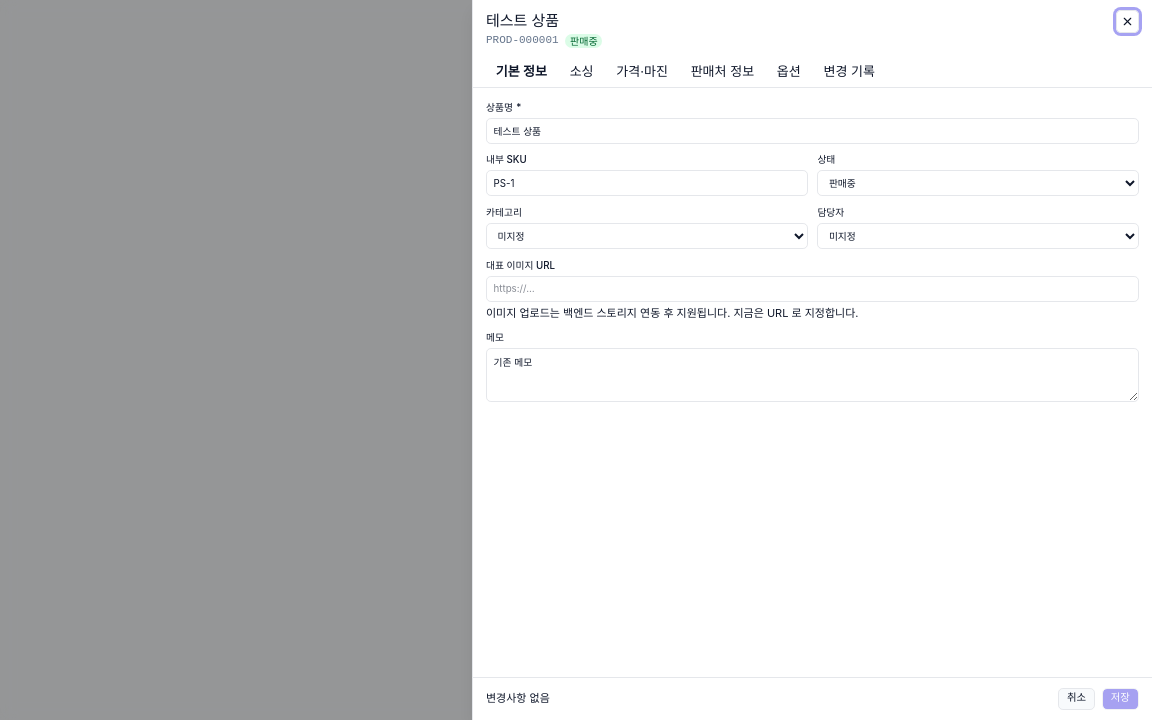
Test: ProductDrawer 저장 경로 › 확인 창이 어떤 항목이 승인으로 가는지 이름으로 보여준다
Clear the field showing "테스트 상품": (812, 131) [486,118,1139,144]
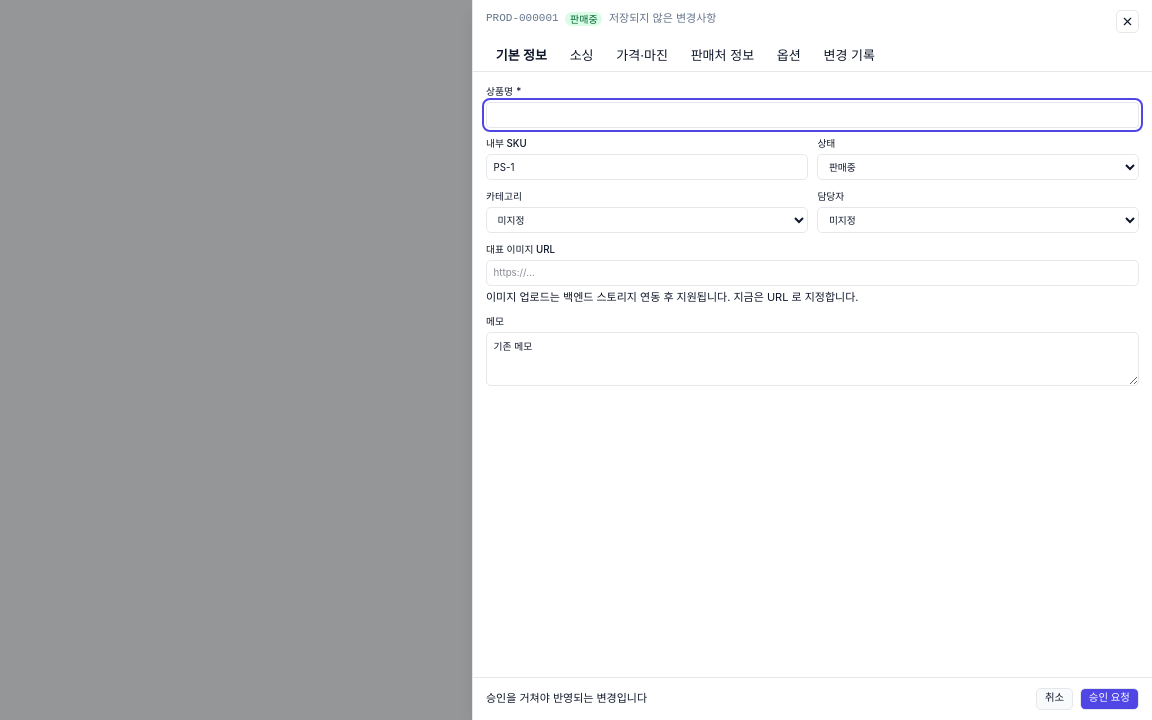
In the field showing "테스트 상품": (812, 115) [486,102,1139,128], type "바뀐 이름"
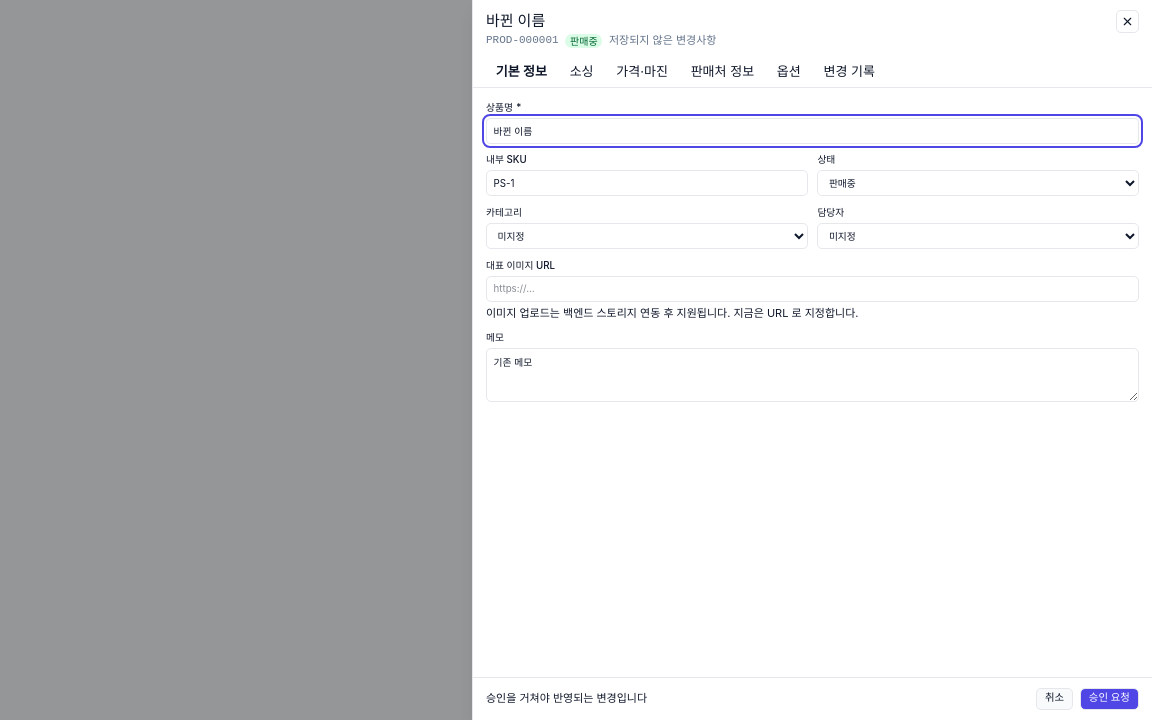
Click the button "승인 요청": (1109, 699) [1080,688,1139,710]
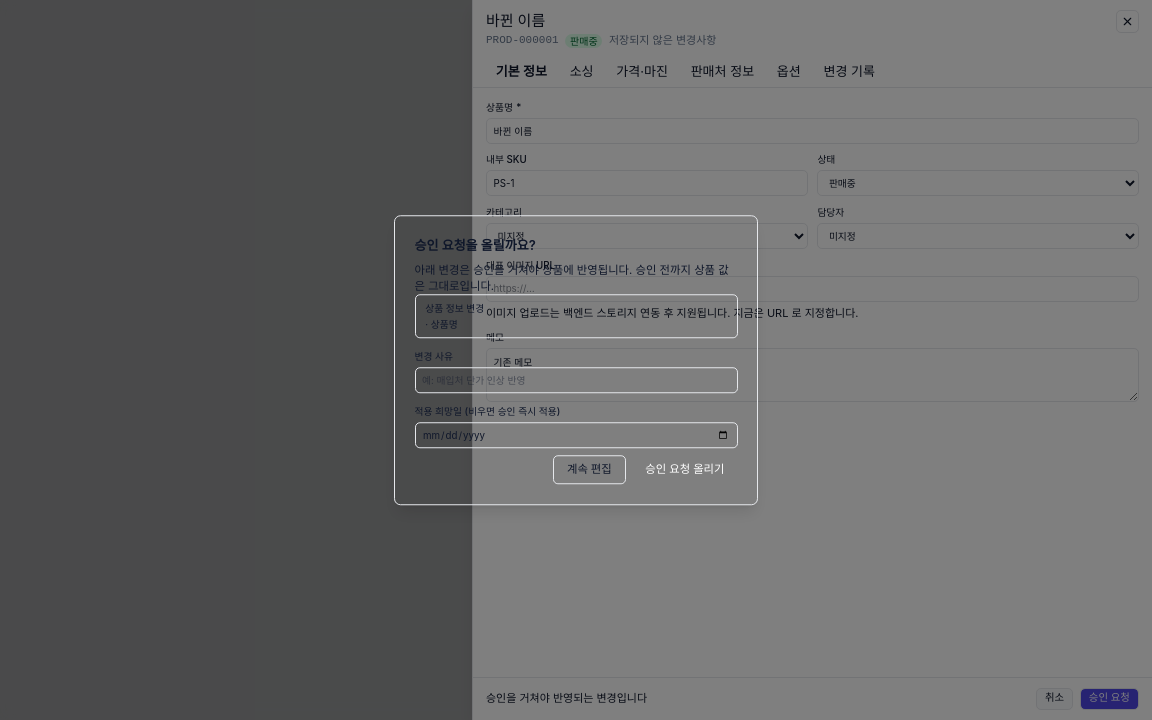
Expected: the text "상품 정보 변경" is shown, [425,303,484,314]
Expected: the list item "· 상품명" is shown, [425,319,458,330]
